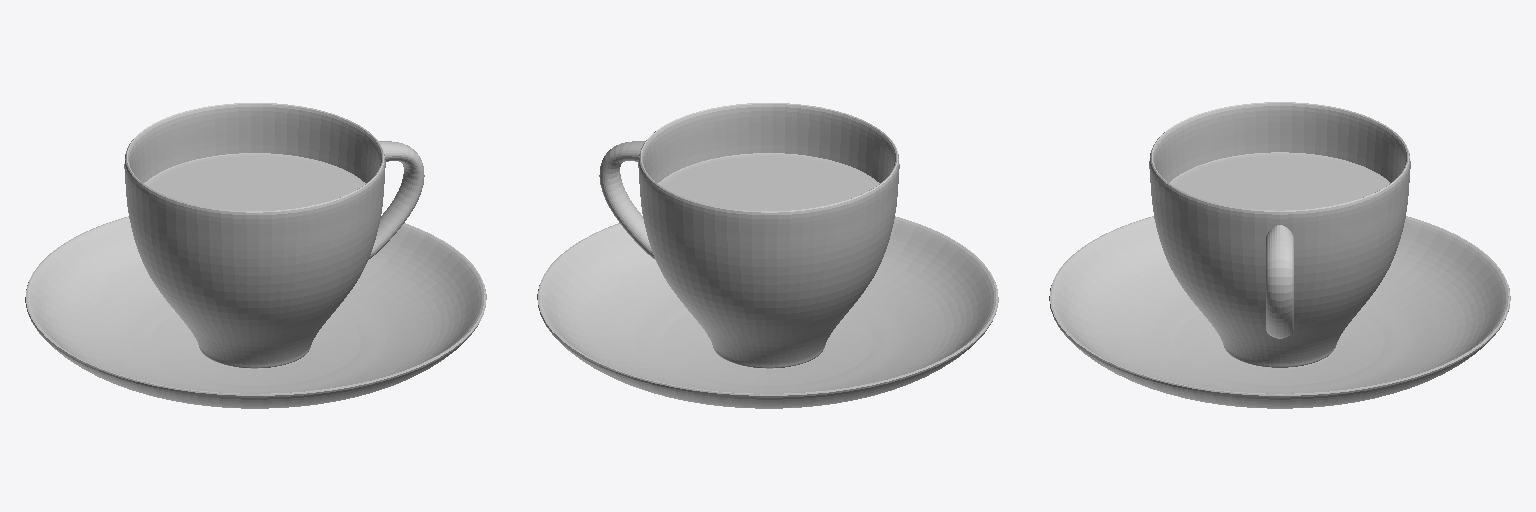
Rendered from foodSymbol.obj.
3 renders of one model, left to right at view 1: azimuth 30°, elevation 25°; view 2: azimuth 150°, elevation 25°; view 3: azimuth 270°, elevation 25°, orthographic.
Parts seen in each view (by area): view 1: Mesh3 dinnerwar0_1 skpCA0A1 Model, Mesh1 dinnerwar0_1 skpCA0A1 Model, Mesh4 dinnerwar0_1 skpCA0A1 Model, Mesh2 dinnerwar0_1 skpCA0A1 Model; view 2: Mesh3 dinnerwar0_1 skpCA0A1 Model, Mesh1 dinnerwar0_1 skpCA0A1 Model, Mesh4 dinnerwar0_1 skpCA0A1 Model, Mesh2 dinnerwar0_1 skpCA0A1 Model; view 3: Mesh3 dinnerwar0_1 skpCA0A1 Model, Mesh1 dinnerwar0_1 skpCA0A1 Model, Mesh4 dinnerwar0_1 skpCA0A1 Model, Mesh2 dinnerwar0_1 skpCA0A1 Model.
Boxes of the visible parts, x1,y1,x2,y2 form: Mesh3 dinnerwar0_1 skpCA0A1 Model: [25, 216, 486, 408]; Mesh1 dinnerwar0_1 skpCA0A1 Model: [124, 103, 385, 368]; Mesh4 dinnerwar0_1 skpCA0A1 Model: [144, 153, 365, 210]; Mesh2 dinnerwar0_1 skpCA0A1 Model: [369, 141, 424, 258]; Mesh3 dinnerwar0_1 skpCA0A1 Model: [537, 216, 998, 408]; Mesh1 dinnerwar0_1 skpCA0A1 Model: [638, 103, 899, 368]; Mesh4 dinnerwar0_1 skpCA0A1 Model: [658, 153, 879, 210]; Mesh2 dinnerwar0_1 skpCA0A1 Model: [599, 141, 654, 258]; Mesh3 dinnerwar0_1 skpCA0A1 Model: [1049, 216, 1510, 408]; Mesh1 dinnerwar0_1 skpCA0A1 Model: [1149, 102, 1410, 367]; Mesh4 dinnerwar0_1 skpCA0A1 Model: [1170, 152, 1389, 210]; Mesh2 dinnerwar0_1 skpCA0A1 Model: [1266, 225, 1293, 338].
Size of the model in its own units: 4.03 by 1.91 by 4.03.